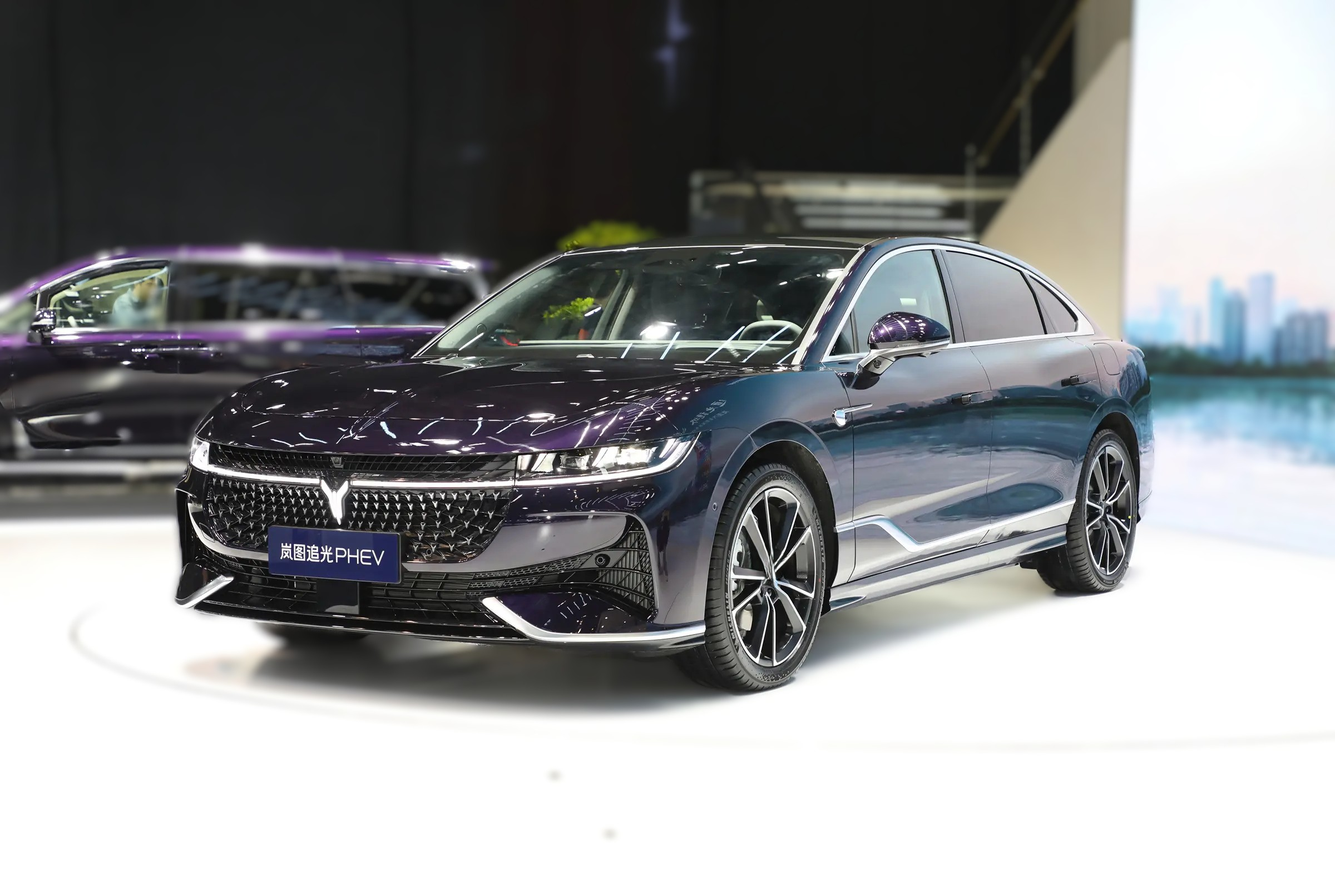VOYAH: (321, 480, 348, 525)
